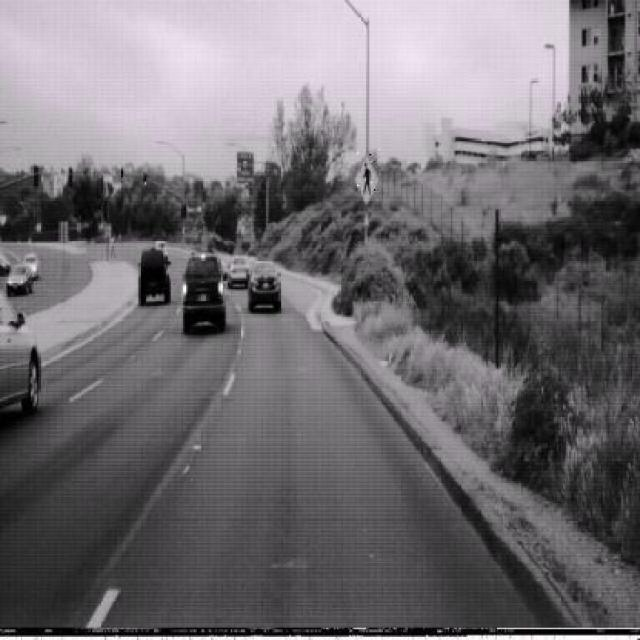pedestrianCrossing: (354, 152, 379, 205)
